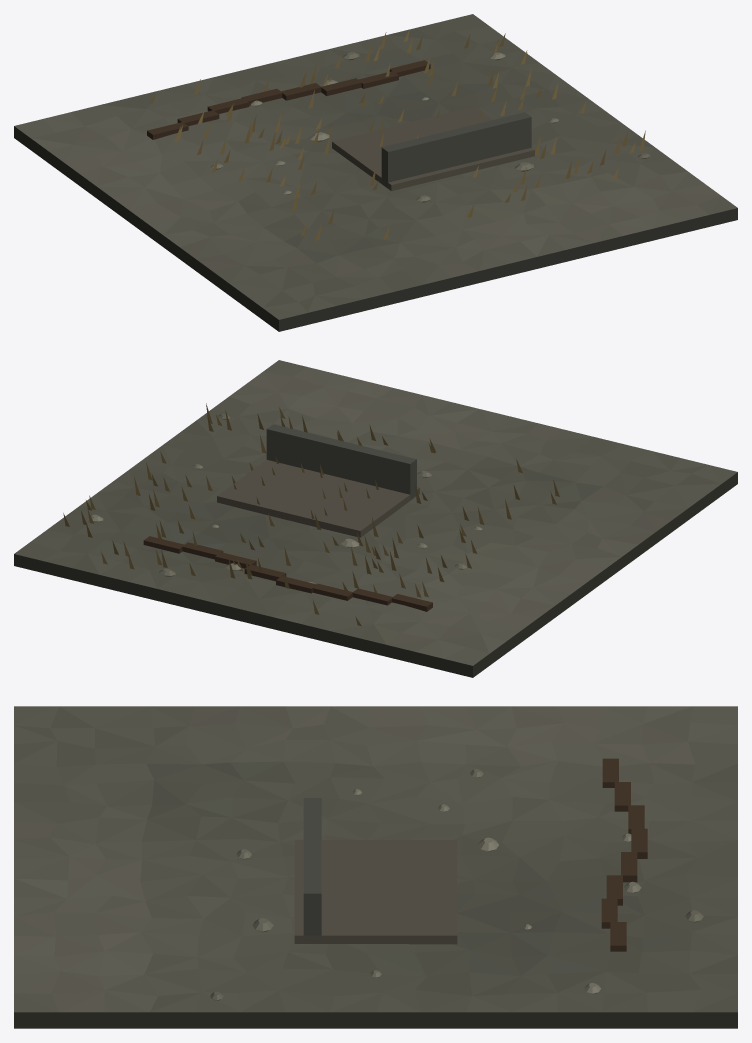
File: CHUNK_abandoned_village__looted_trade_hamlet__10.glb
3 views of the same model, one above another, from view 1: azimuth 30°, elevation 25°; view 2: azimuth 150°, elevation 25°; view 3: azimuth 270°, elevation 25° (orthographic). The views are drawn at different scales.
Visible parts, largest first — view 1: CHUNK_abandoned_village__looted_trade_hamlet__10; view 2: CHUNK_abandoned_village__looted_trade_hamlet__10; view 3: CHUNK_abandoned_village__looted_trade_hamlet__10.
Part boxes in pixels (x1,y1,x2,y2): CHUNK_abandoned_village__looted_trade_hamlet__10: (14,14,737,331); CHUNK_abandoned_village__looted_trade_hamlet__10: (14,360,737,677); CHUNK_abandoned_village__looted_trade_hamlet__10: (14,706,737,1028).
Size of the model in its own units: 8 by 0.83 by 8.
